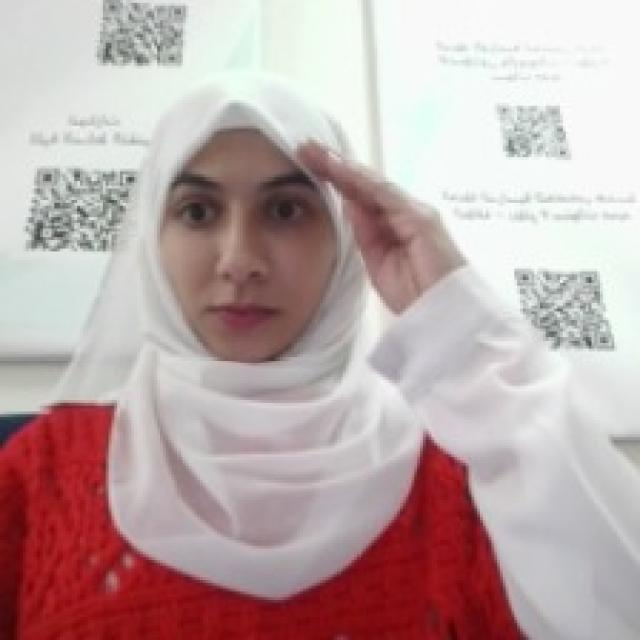Thanks: (288, 128, 468, 312)
